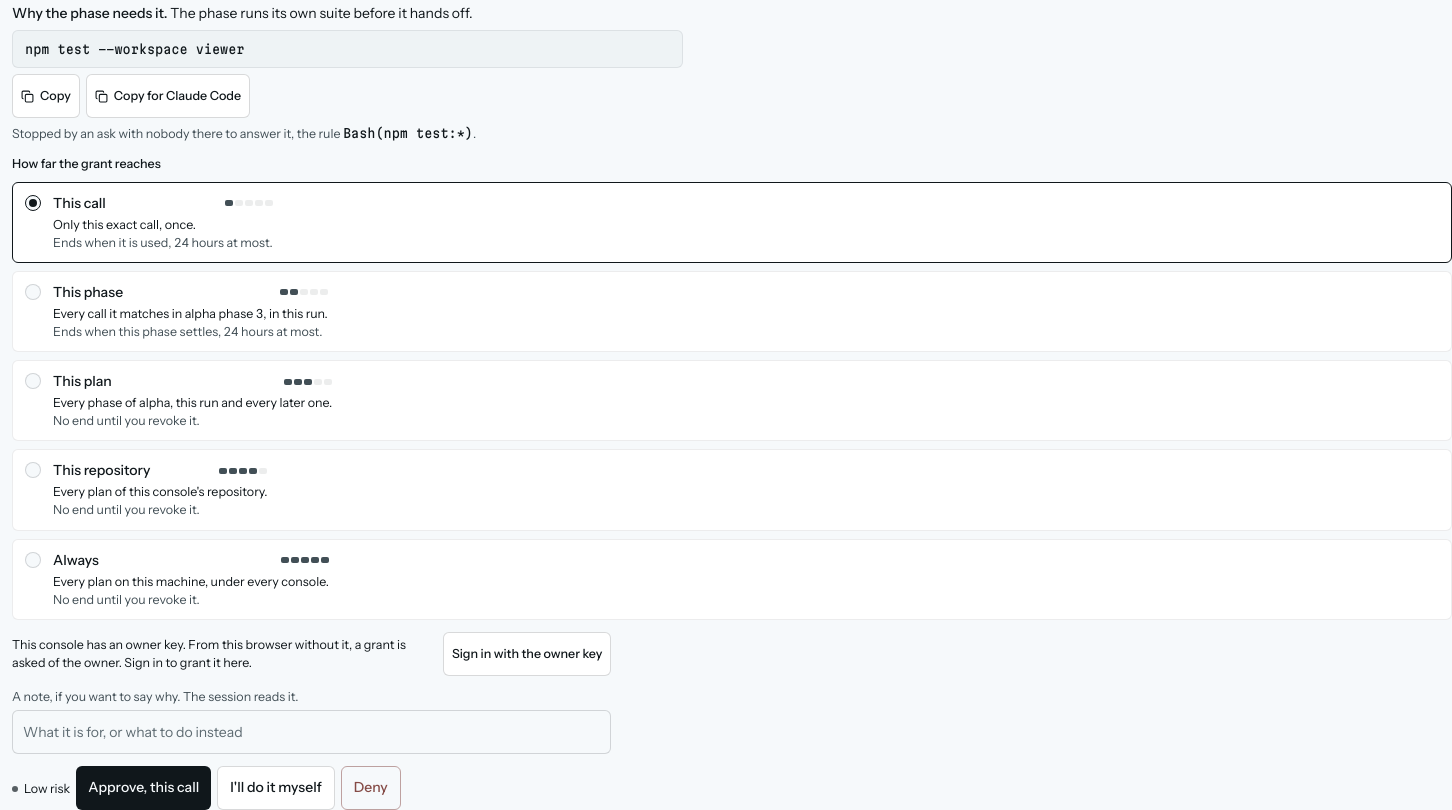
Test: PC-4 on a keyed console a high grant needs a fresh touch of the owner key › a low grant on a keyed console is still one press — and says it is asked of the owner without a session
(page scrolled)
Expected: the element with test id "grant-owner" shows "asked of the owner", [12,637,406,670]
Click the button with test id "turn-primary" at (144, 788), box [76,766,211,809]
(page scrolled)
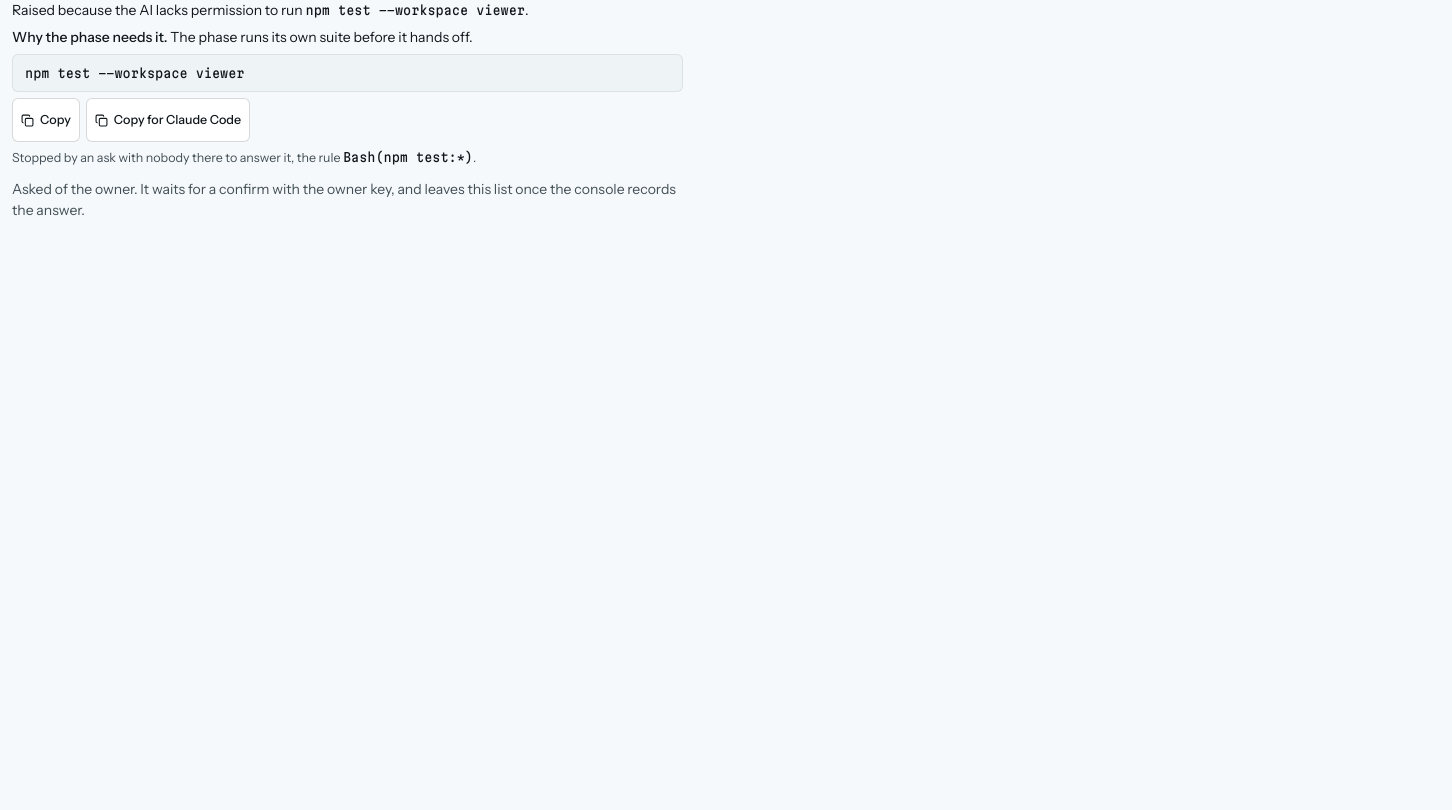
Expected: the text with test id "grant-settling" shows "Asked of the owner", [12,180,676,219]
